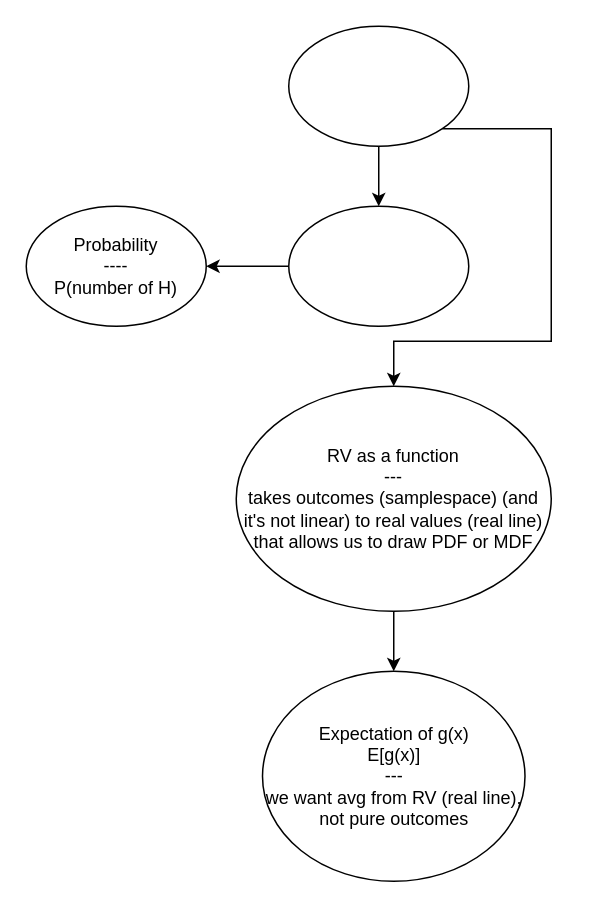
Some shapes in this 590 by 908 pixel diagram are drawn without their labels. The centre of each missing label's shape, as x and y in pixels:
"Events ---- number of H" goes at (x=378, y=265).
"Outcomes ---- (HHTHTTHTH)" goes at (x=378, y=85).
